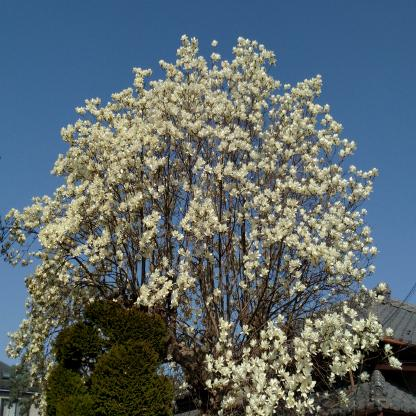Mokuren: (0, 34, 404, 416)
